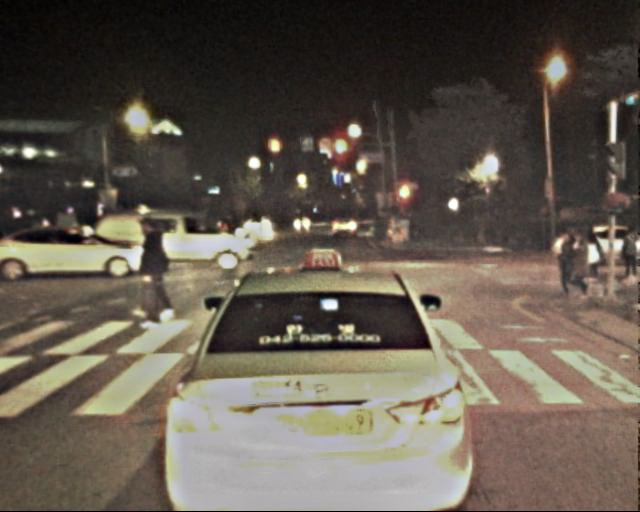person: (130, 216, 173, 322), (555, 230, 582, 296), (567, 228, 594, 293), (581, 229, 606, 289), (619, 223, 640, 282)
